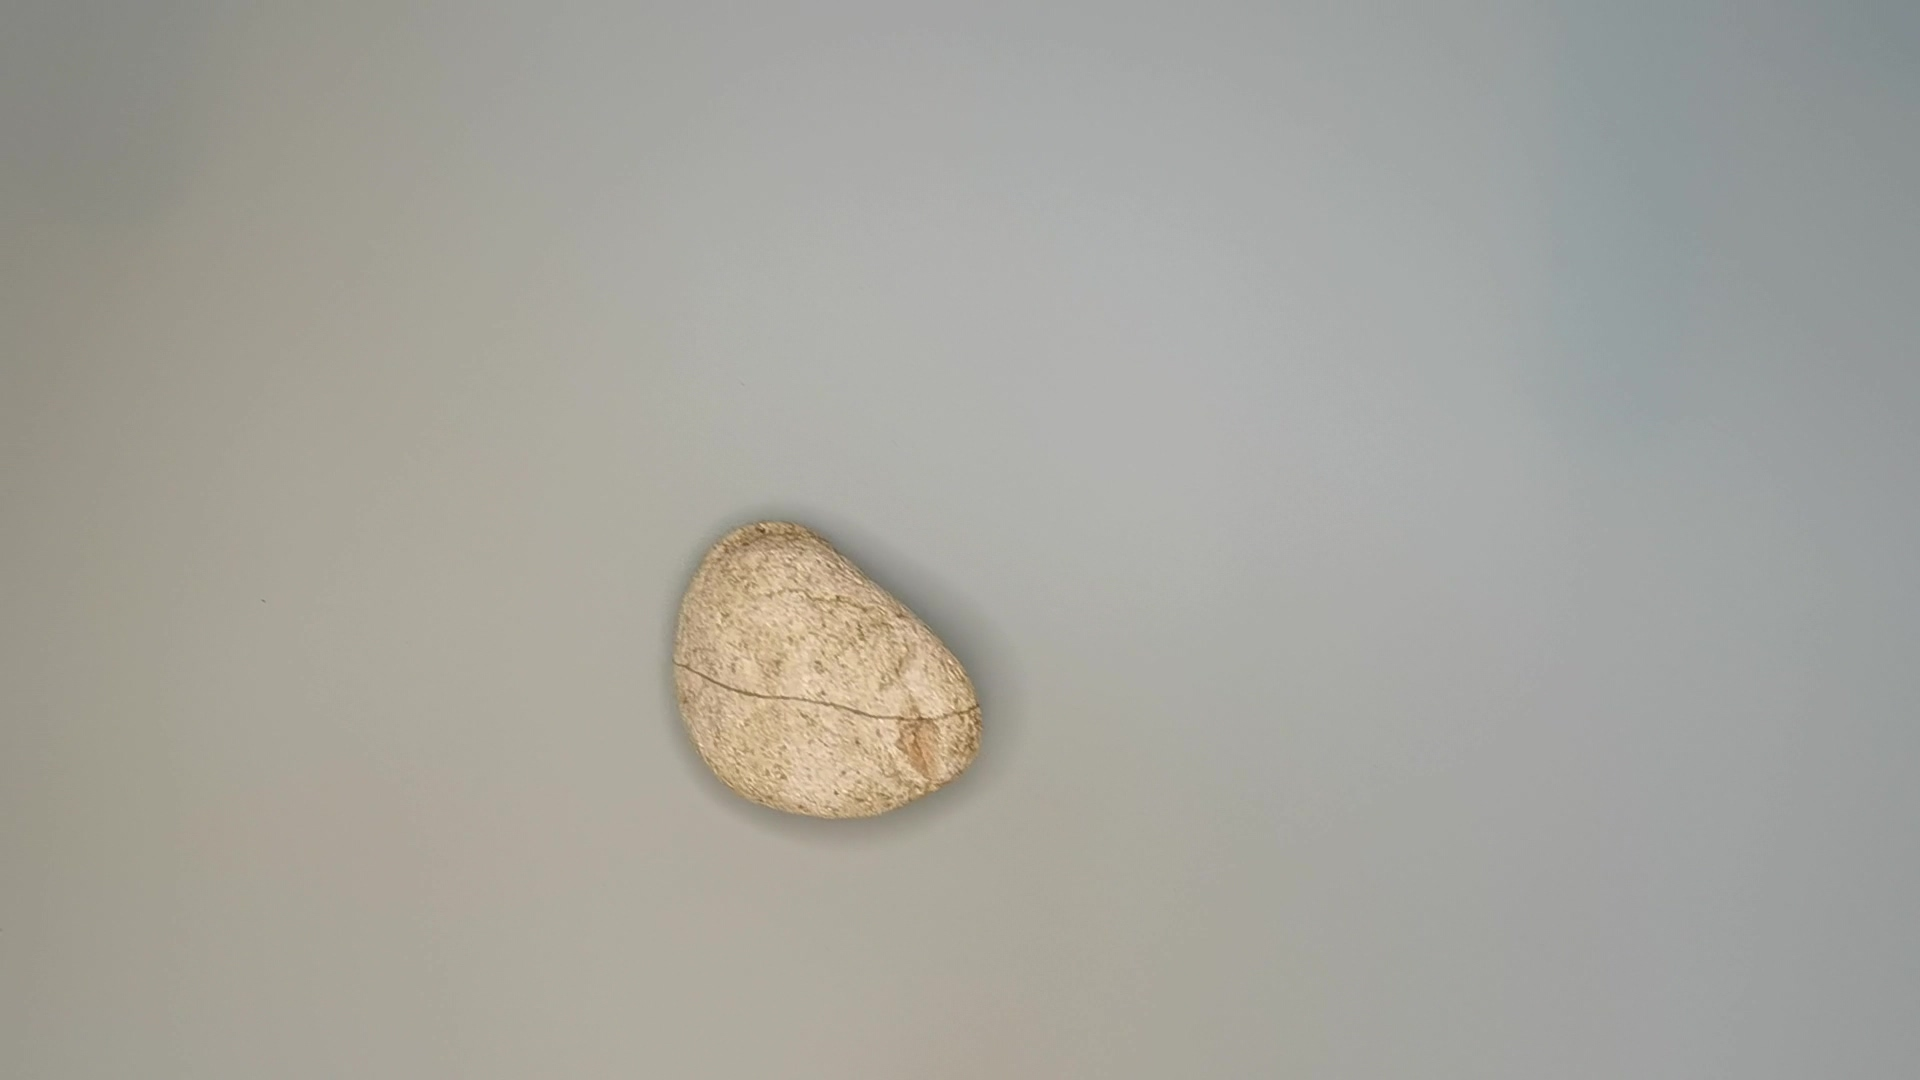ceramic: (655, 516, 996, 824)
